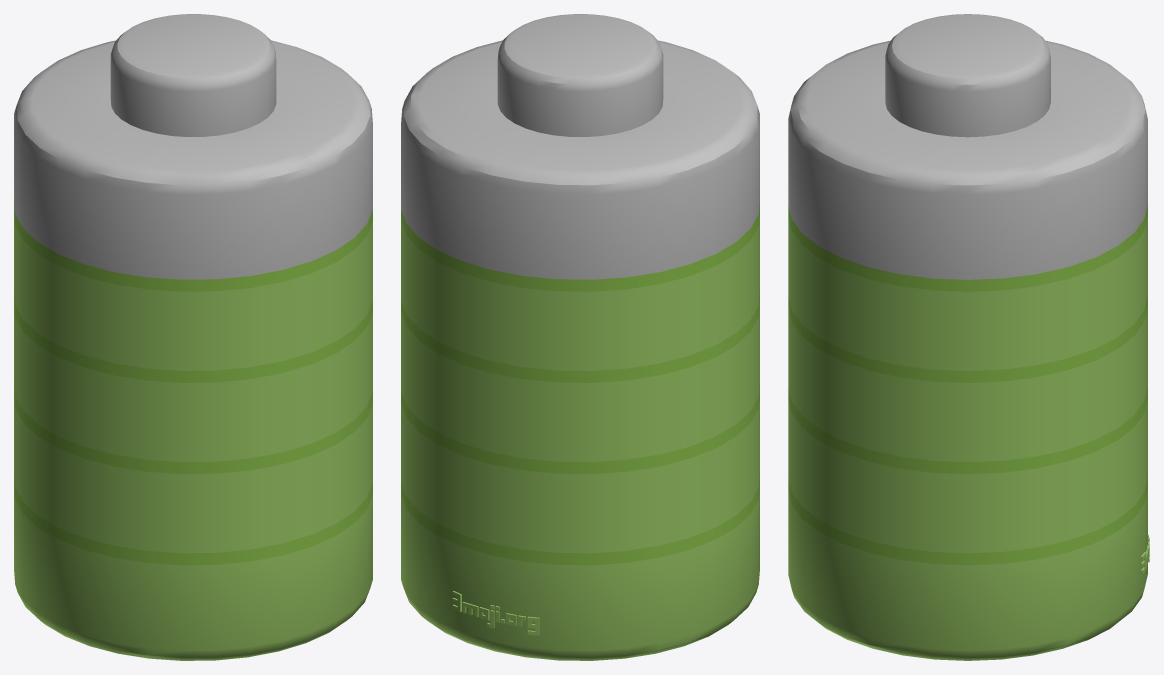
The model's file is battery.fbx.
3 views of the same model, side by side, from view 1: azimuth 30°, elevation 25°; view 2: azimuth 150°, elevation 25°; view 3: azimuth 270°, elevation 25° (orthographic).
Visible parts, largest first — view 1: Cylinder.497; view 2: Cylinder.497; view 3: Cylinder.497.
Boxes of the visible parts, x1,y1,x2,y2 form: Cylinder.497: (14,14,372,660); Cylinder.497: (401,14,759,660); Cylinder.497: (788,14,1149,660).
Bounding box in the file's own units: 125 × 209 × 126.
1 material, 1 textured.
